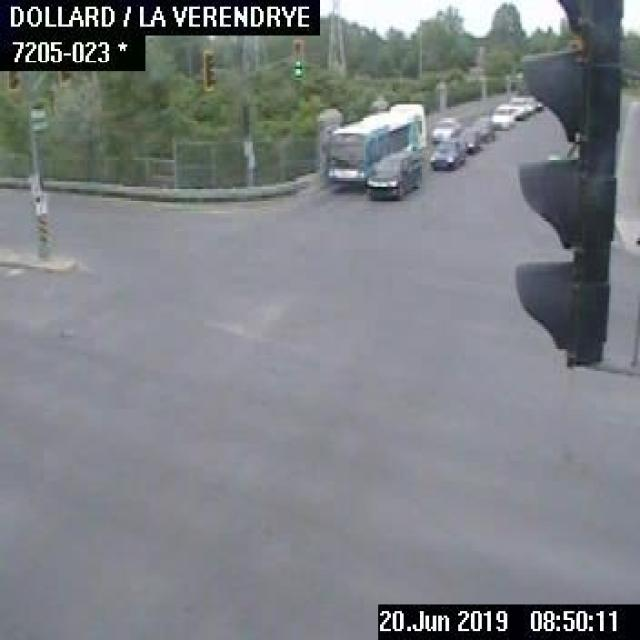bus: (324, 99, 423, 186)
vehicle: (364, 150, 421, 198), (426, 138, 465, 170), (489, 98, 514, 133), (429, 114, 458, 140), (456, 125, 480, 151), (472, 118, 493, 142), (506, 96, 525, 118)
